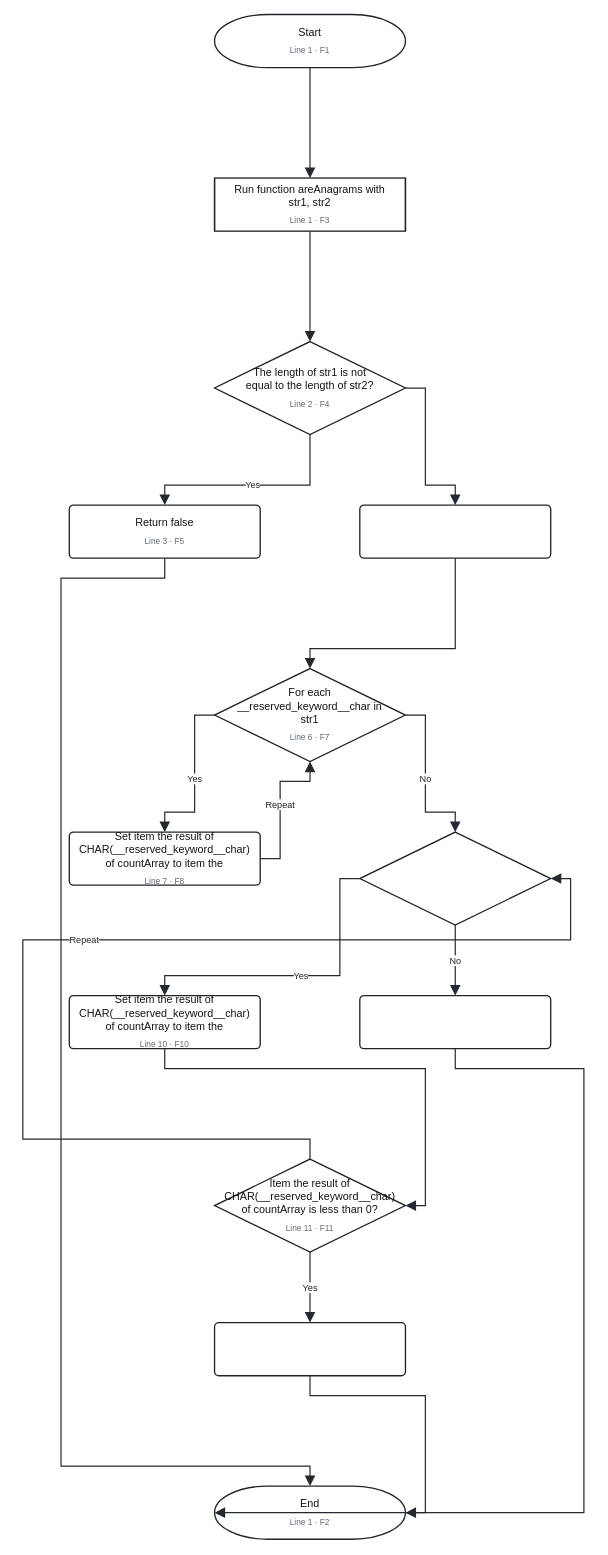
This 608x1555 diagram has some shape labels left out. The shapes that lost their labels are listed below. From the top down, each one's box as (x1, y1, x2, y2) in pixels, then its label:
(359, 504, 551, 558): Set countArray to the result of create_array(256, 0) Line 5 · F6
(359, 831, 551, 925): For each __reserved_keyword__char in str2 Line 9 · F9
(359, 995, 551, 1049): Return true Line 15 · F13
(213, 1322, 406, 1376): Return false Line 12 · F12
